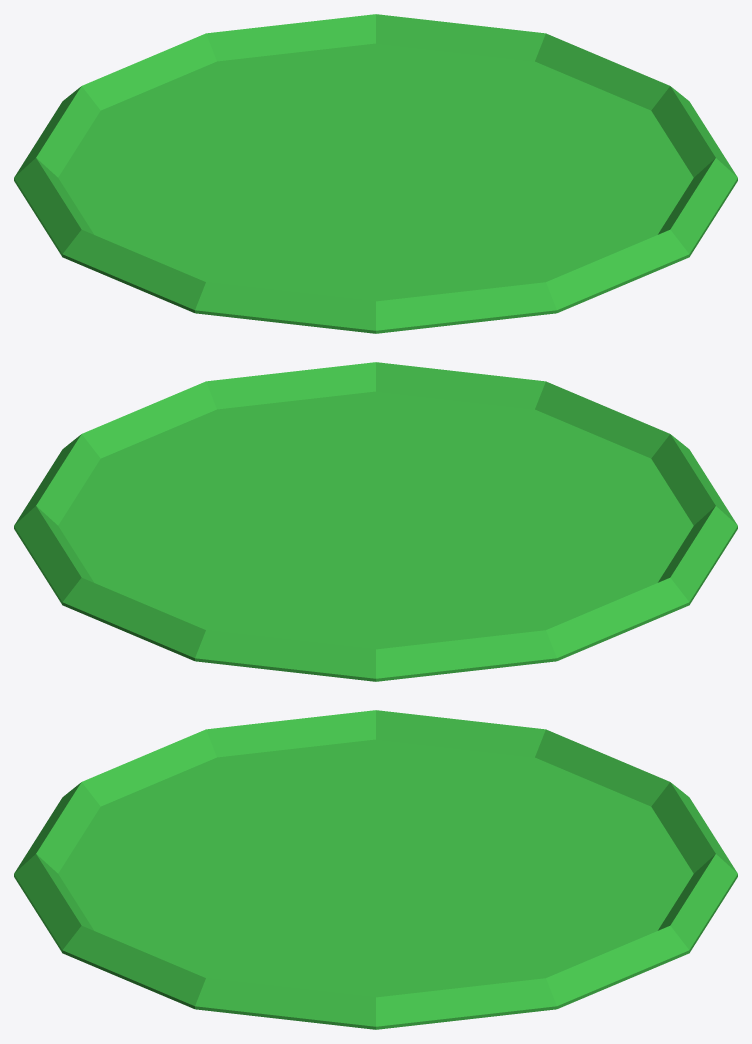
The model's file is ring.glb.
3 renders of one model, top to bottom at view 1: azimuth 30°, elevation 25°; view 2: azimuth 150°, elevation 25°; view 3: azimuth 270°, elevation 25°, orthographic.
Visible parts, largest first — view 1: ring; view 2: ring; view 3: ring.
Boxes of the visible parts, <box> form: ring: <box>14,14,737,333</box>; ring: <box>14,362,737,681</box>; ring: <box>14,710,737,1029</box>.
Bounding box in the file's own units: 8.52 × 0.2998 × 8.52.
